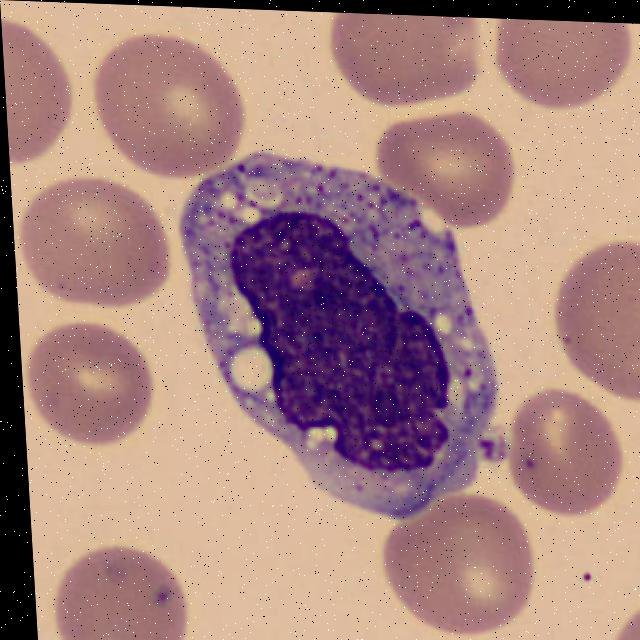monocyte: (168, 125, 521, 494)
rbc: (84, 12, 258, 184), (11, 171, 191, 312), (373, 497, 528, 628), (39, 534, 222, 640), (503, 384, 636, 529), (368, 111, 530, 223), (29, 321, 163, 447), (328, 12, 494, 112), (489, 18, 640, 125), (542, 235, 640, 399), (1, 12, 85, 174), (616, 584, 640, 640)
